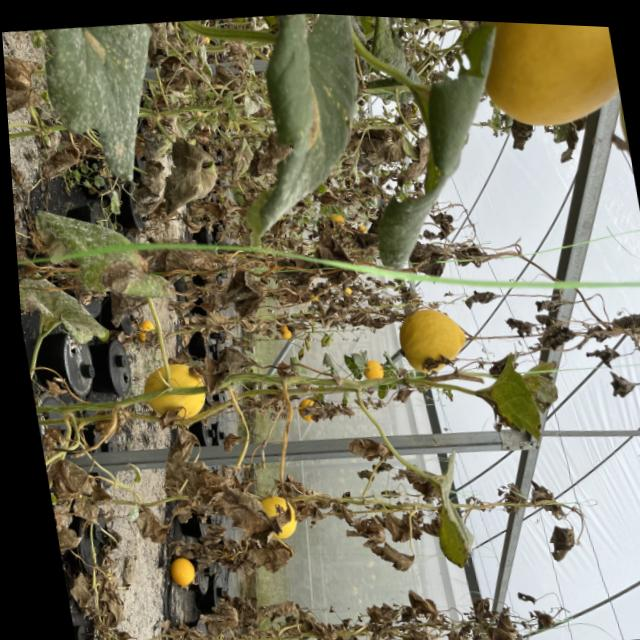CMV: (18, 264, 109, 351)
alternaria leaf blight: (30, 192, 171, 308), (421, 447, 483, 577), (473, 345, 543, 447)
bacterial wilt: (153, 136, 223, 217), (220, 481, 294, 539), (196, 342, 261, 397), (3, 49, 41, 116), (46, 455, 96, 505), (244, 533, 297, 577), (195, 597, 241, 640), (63, 569, 100, 619), (255, 590, 300, 626), (345, 434, 393, 463)
